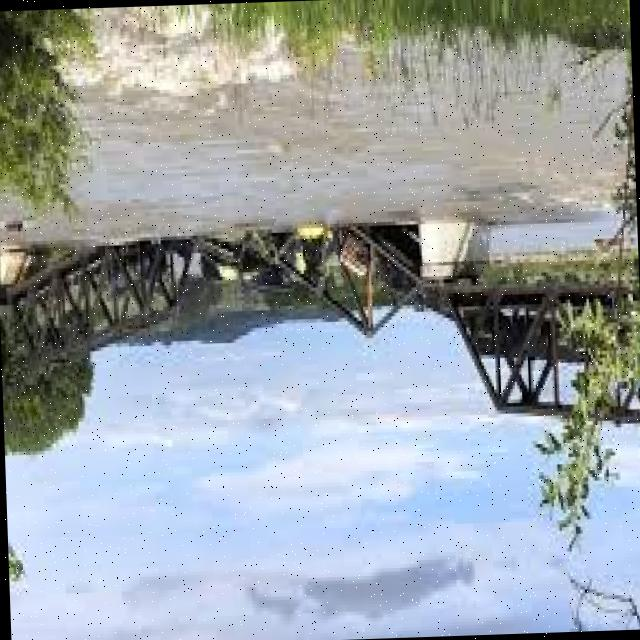bridge collapse: (64, 136, 565, 538)
